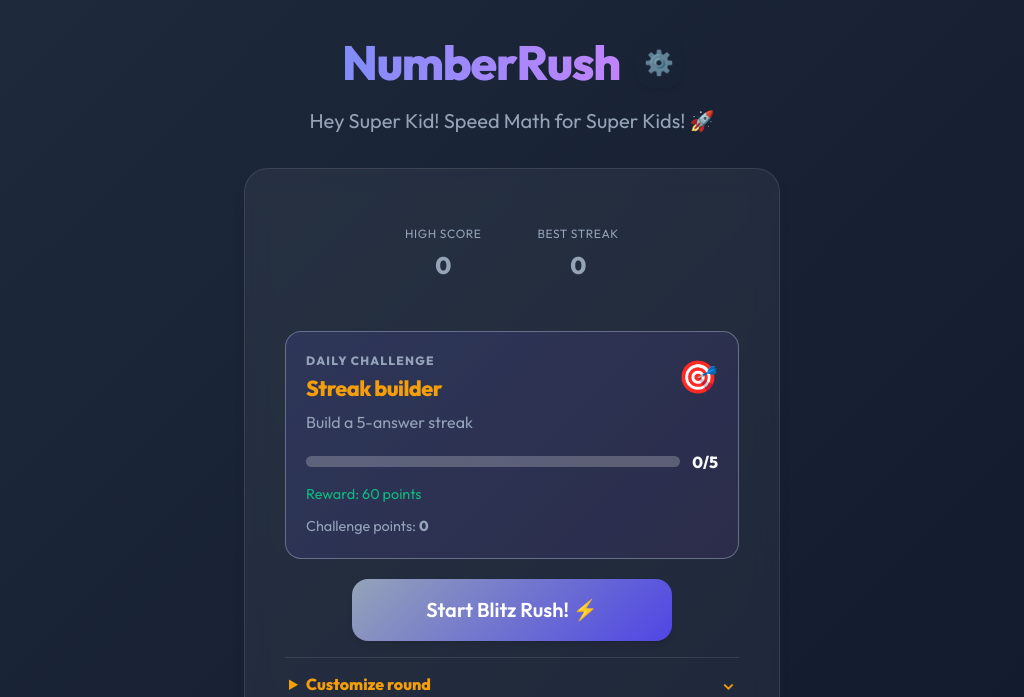
it: App keyboard gameplay › keeps the final incorrect answer feedback when the timer ends the round
Click the button "Start Blitz Rush! ⚡" at (512, 610), box [352,579,672,641]
(page scrolled)
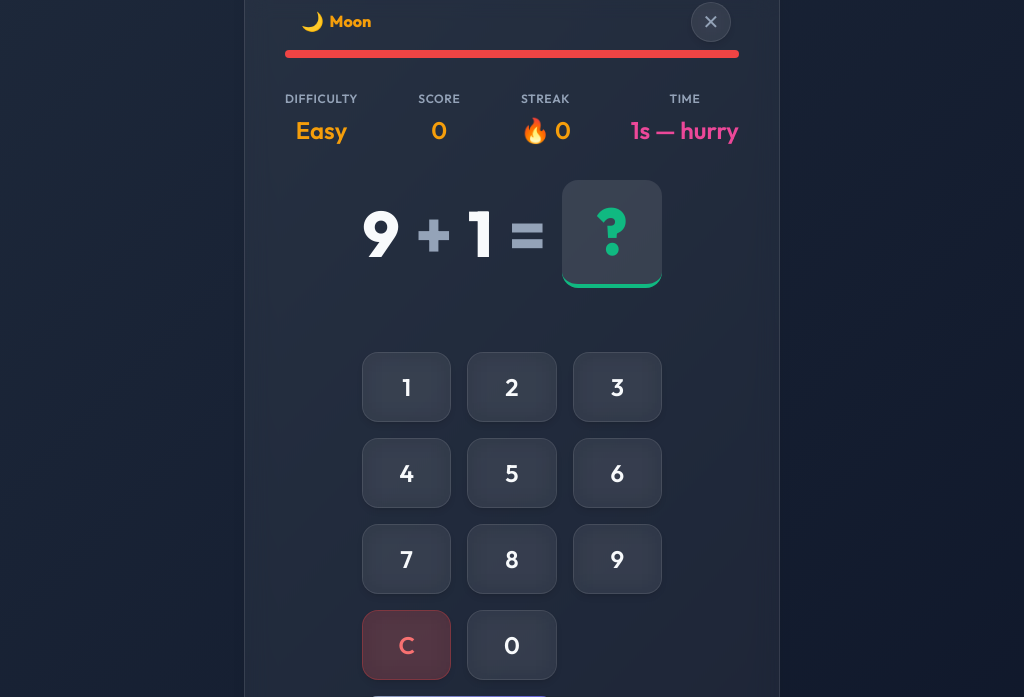
Press 9
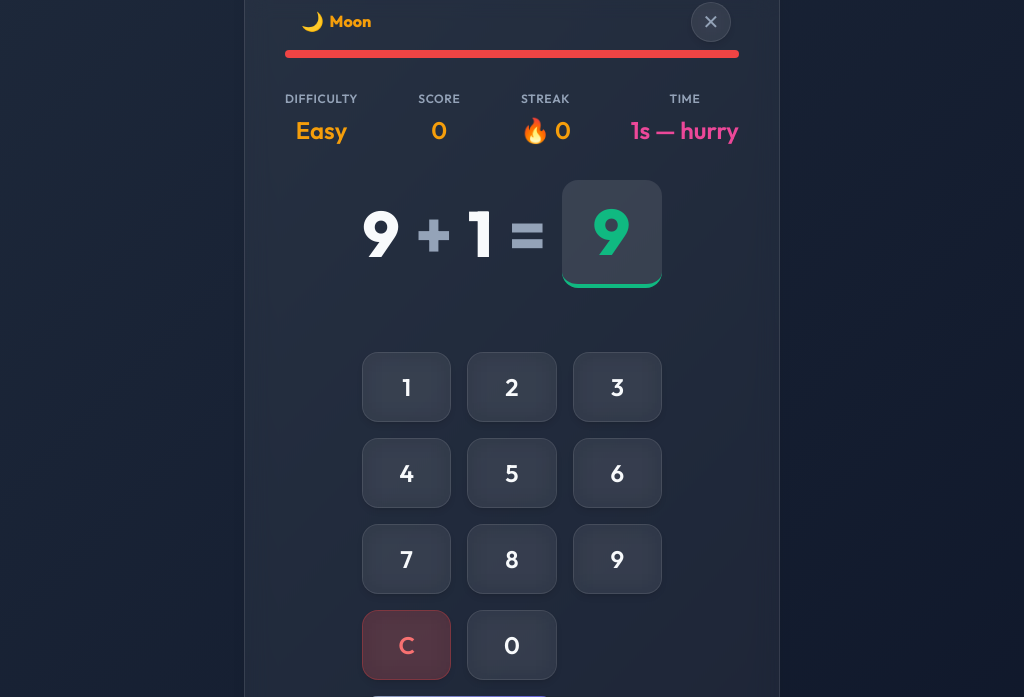
Press 9
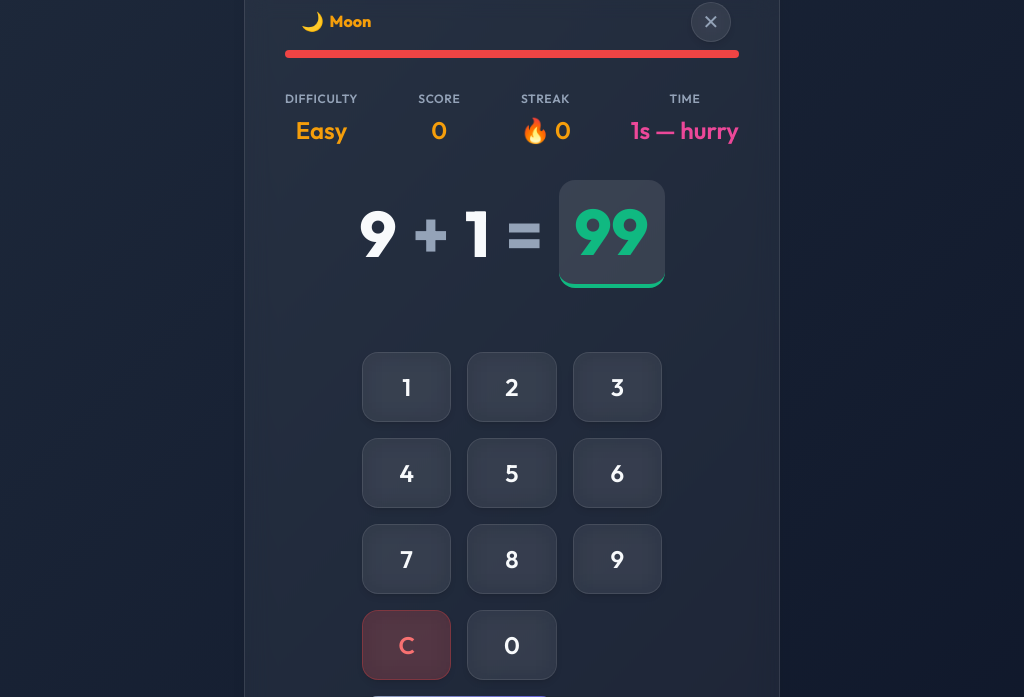
Press 9
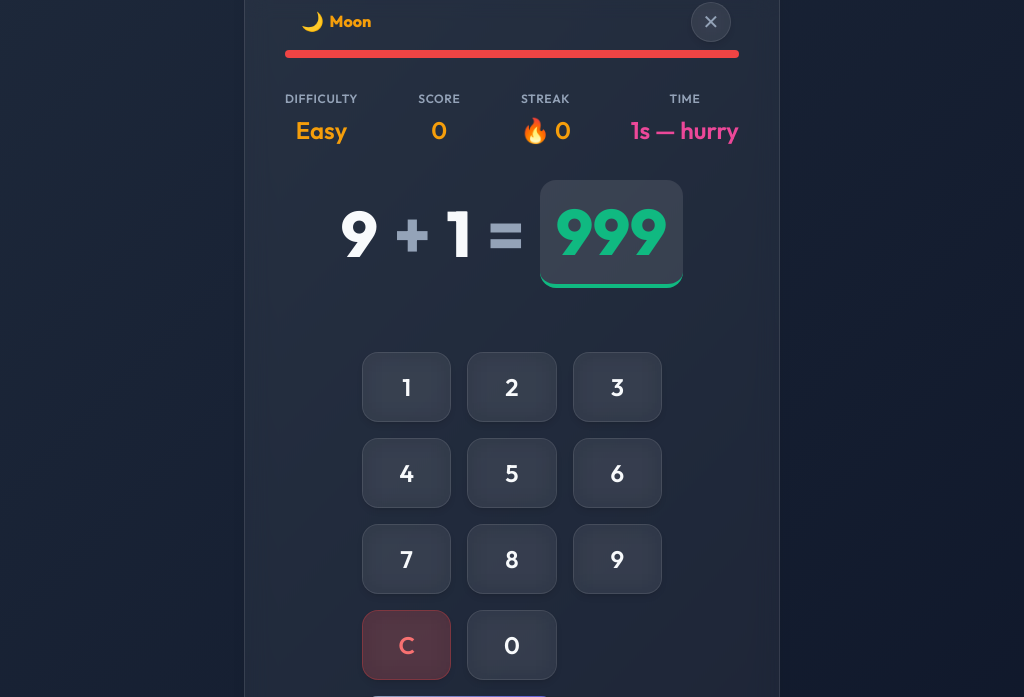
Press 9
(page scrolled)
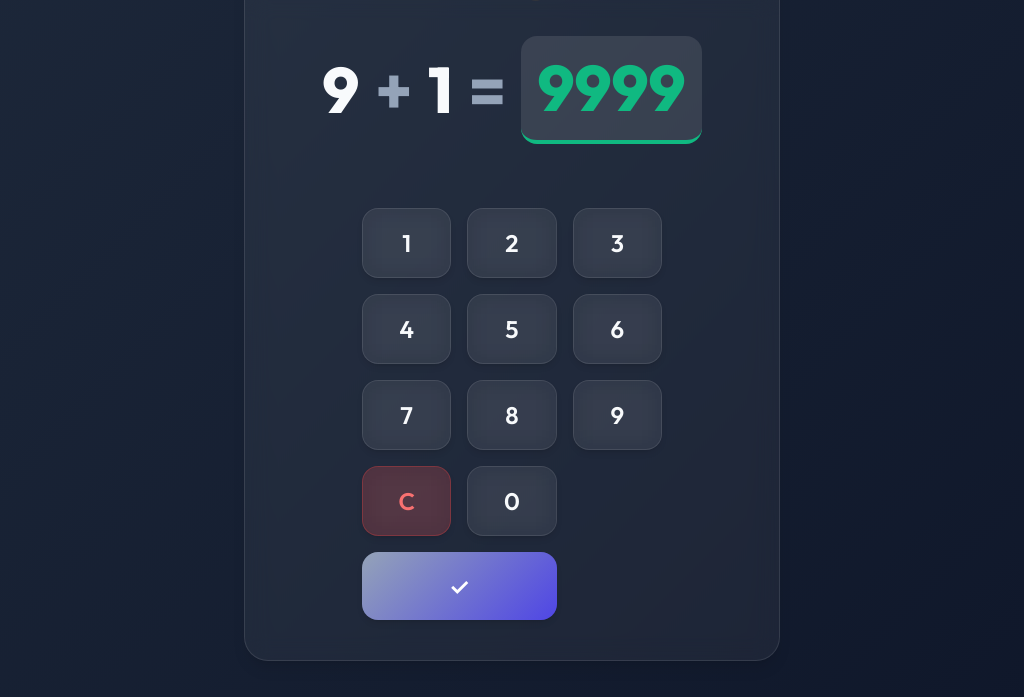
Click the button named "Submit answer" at (459, 586), box [362,552,557,620]
Wait 1000 ms
(page scrolled)
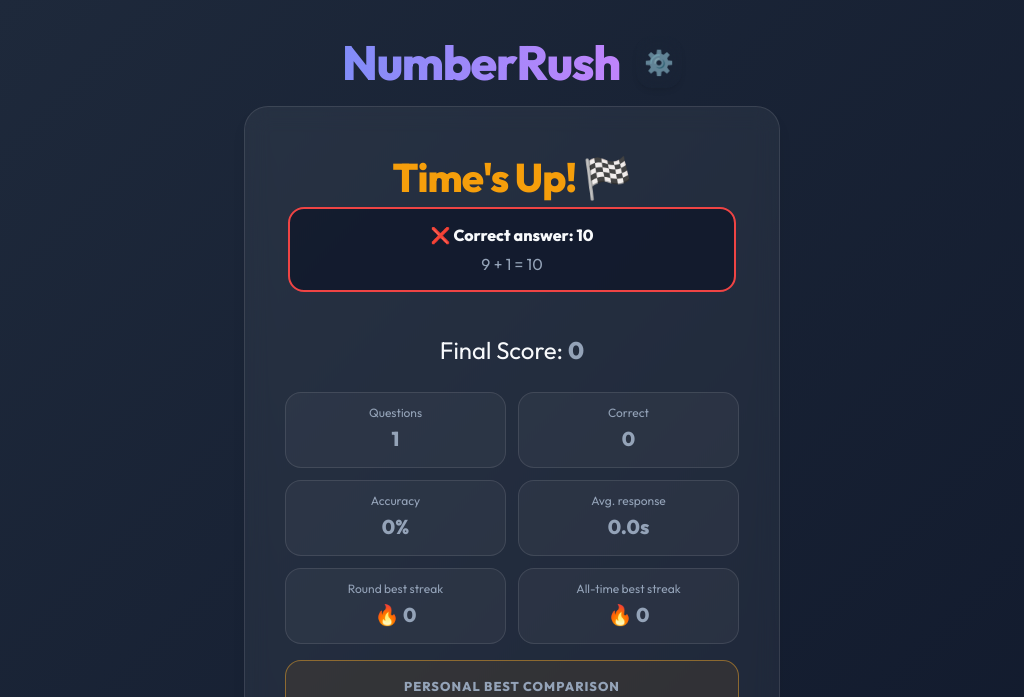
Now the text "❌ Correct answer: 10 9 + 1 = 10" is shown, box [288,207,736,292]
